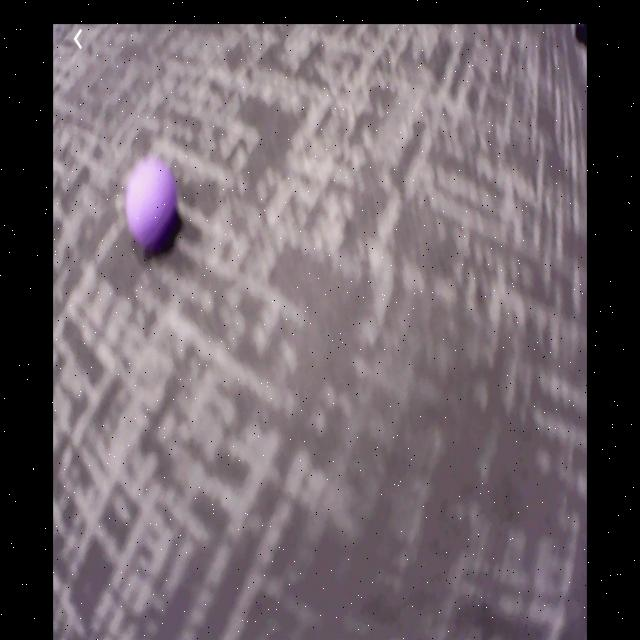ball: (127, 164, 179, 246)
